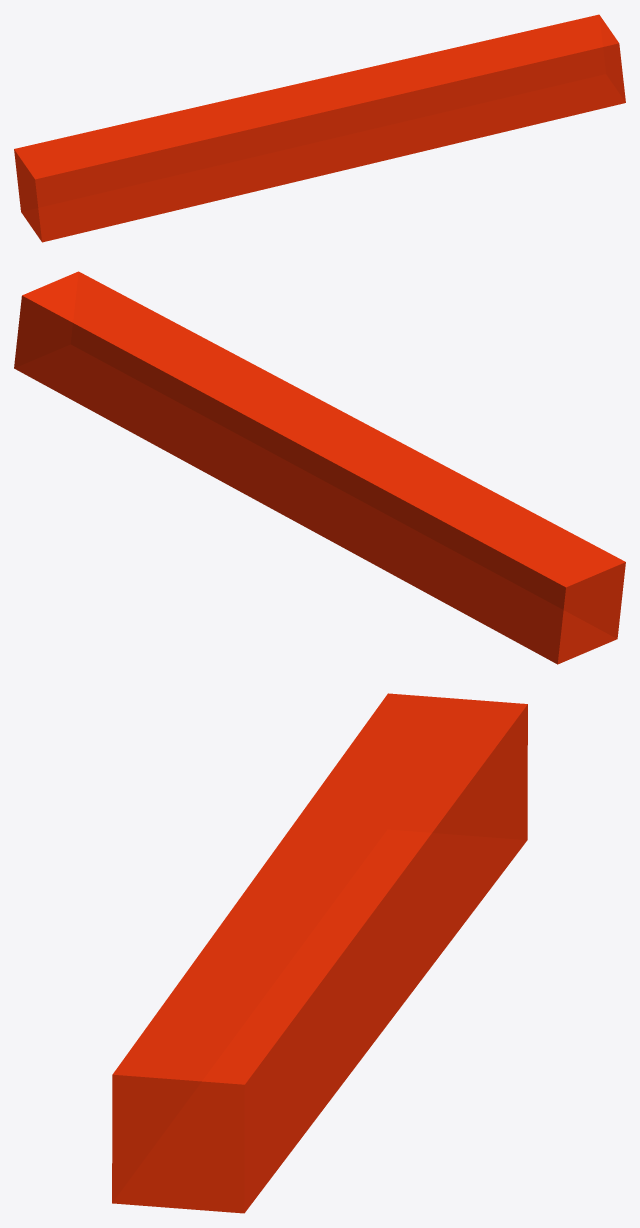
File: Event_421115418_EErechit_55.fbx
The picture shows the model from 3 angles, top to bottom: view 1: azimuth 30°, elevation 25°; view 2: azimuth 150°, elevation 25°; view 3: azimuth 270°, elevation 25°; orthographic projection. The views are drawn at different scales.
Visible parts, largest first — view 1: Model; view 2: Model; view 3: Model.
Boxes of the visible parts, x1,y1,x2,y2 form: Model: (14, 14, 625, 242); Model: (14, 271, 625, 664); Model: (112, 693, 527, 1213).
Size of the model in its own units: 0.6599 by 0.1496 by 0.2221.
